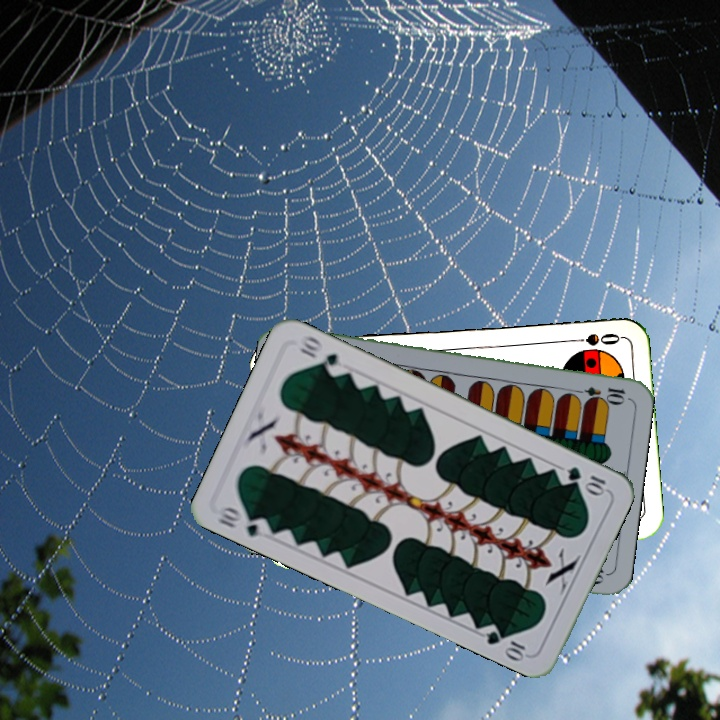E10: (569, 382, 628, 404)
G10: (212, 503, 273, 541), (562, 462, 610, 497)
SO: (564, 328, 623, 348)
